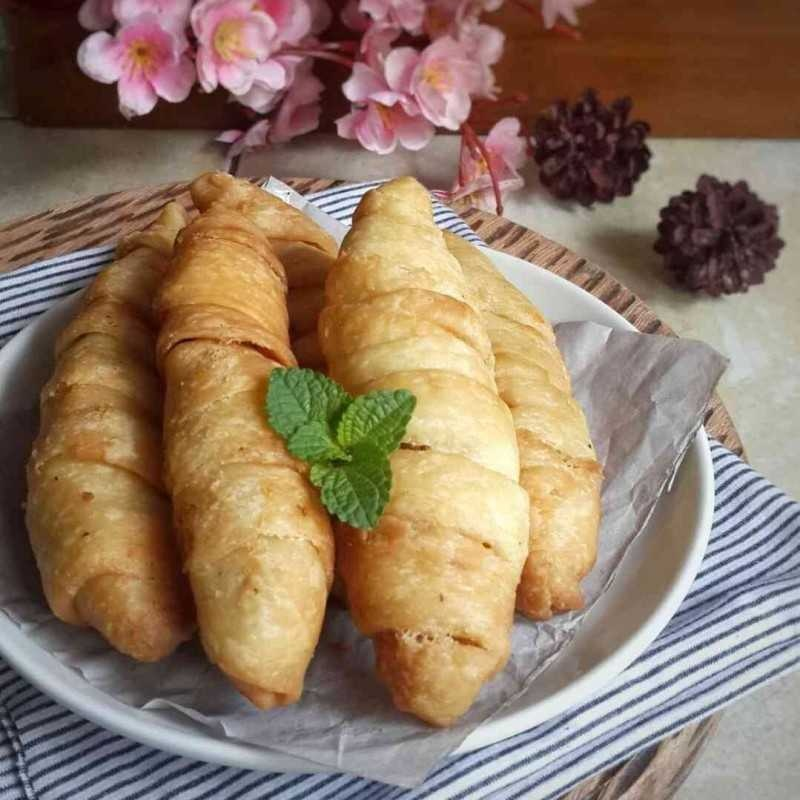pisang_molen: (316, 171, 514, 727), (158, 201, 344, 705)
